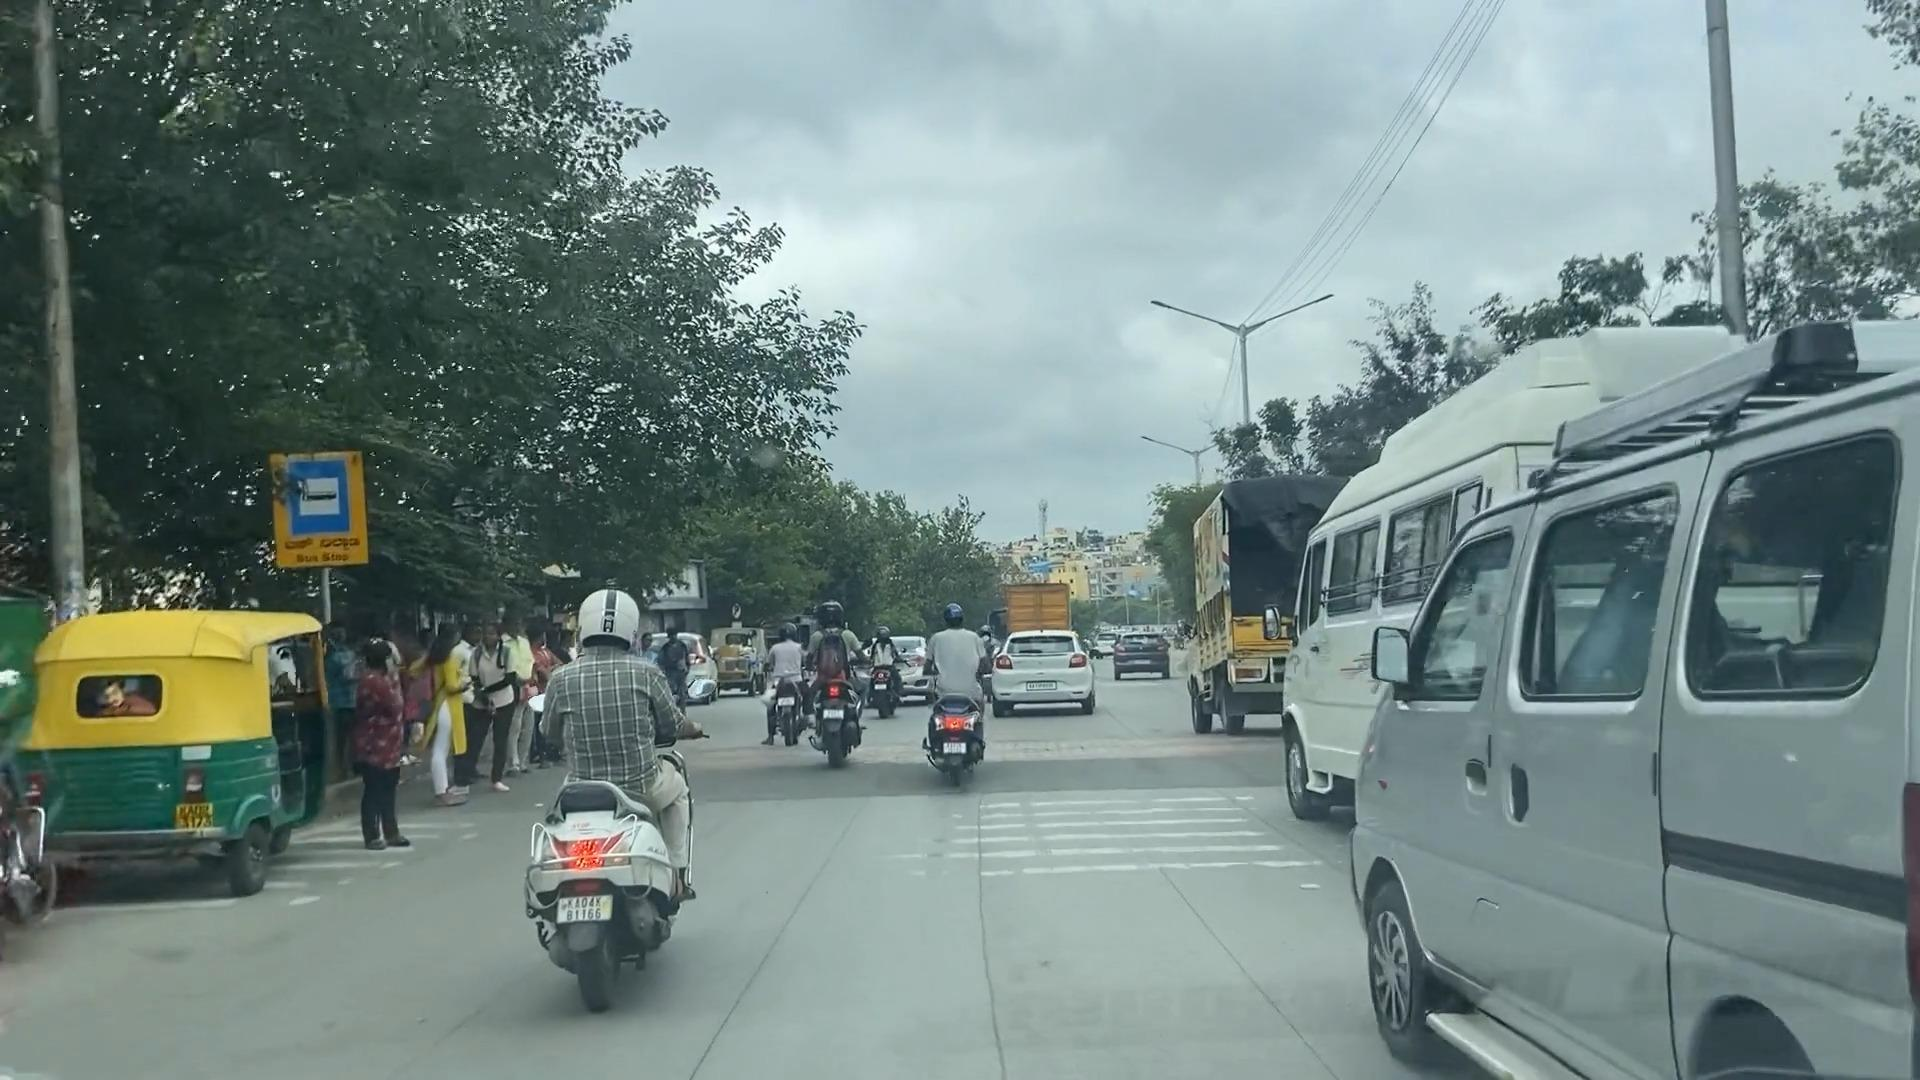LMV: (1362, 477, 1920, 1080), (33, 621, 319, 897), (541, 585, 703, 1006)
